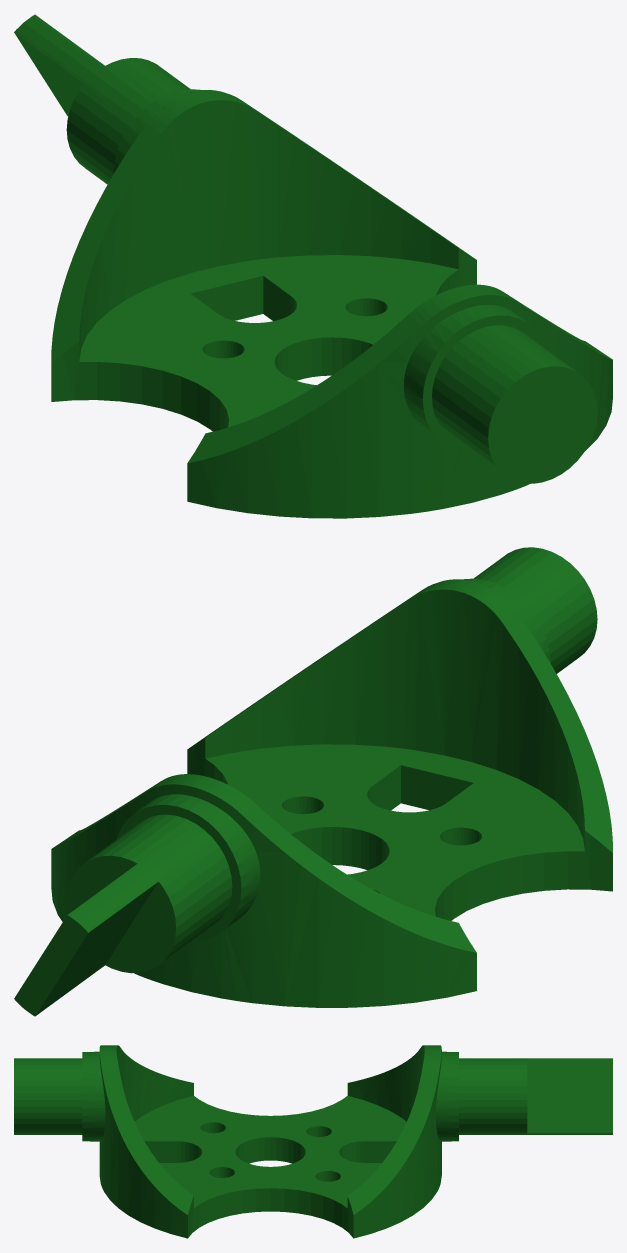
File: motor_base.dae
3 views of the same model, one above another, from view 1: azimuth 30°, elevation 25°; view 2: azimuth 150°, elevation 25°; view 3: azimuth 270°, elevation 25° (orthographic). The views are drawn at different scales.
Parts seen in each view (by area): view 1: Motor Base; view 2: Motor Base; view 3: Motor Base.
Part boxes in pixels (x1,y1,x2,y2): Motor Base: (14,14,612,518); Motor Base: (14,547,612,1016); Motor Base: (14,1045,612,1238).
Bounding box in the file's own units: 0.035 × 0.07 × 0.0161.
